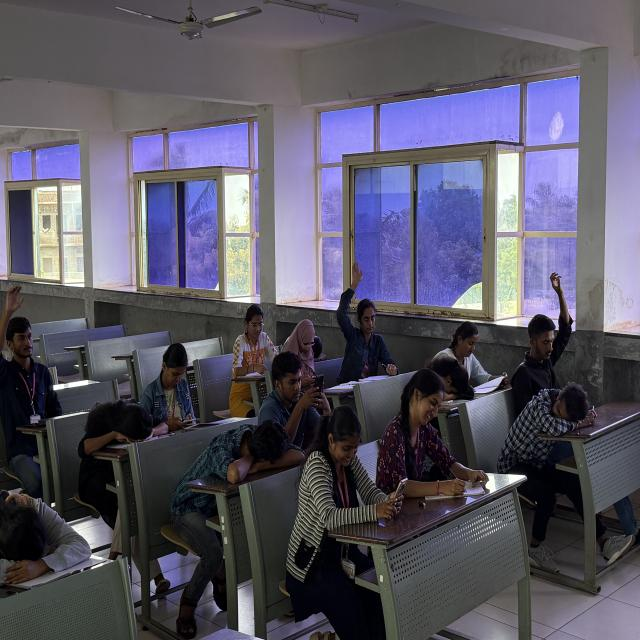Hand Rising: (0, 278, 91, 449), (514, 268, 608, 386), (330, 260, 420, 380)
Reading: (429, 302, 516, 392)
Sleeping: (2, 483, 104, 608), (182, 415, 300, 517), (80, 392, 174, 497), (505, 377, 609, 467), (258, 355, 346, 442), (415, 348, 477, 427)
Using Phone: (302, 413, 415, 544), (153, 348, 226, 434), (278, 316, 344, 384)
Writing: (373, 367, 503, 507), (234, 307, 288, 379)
